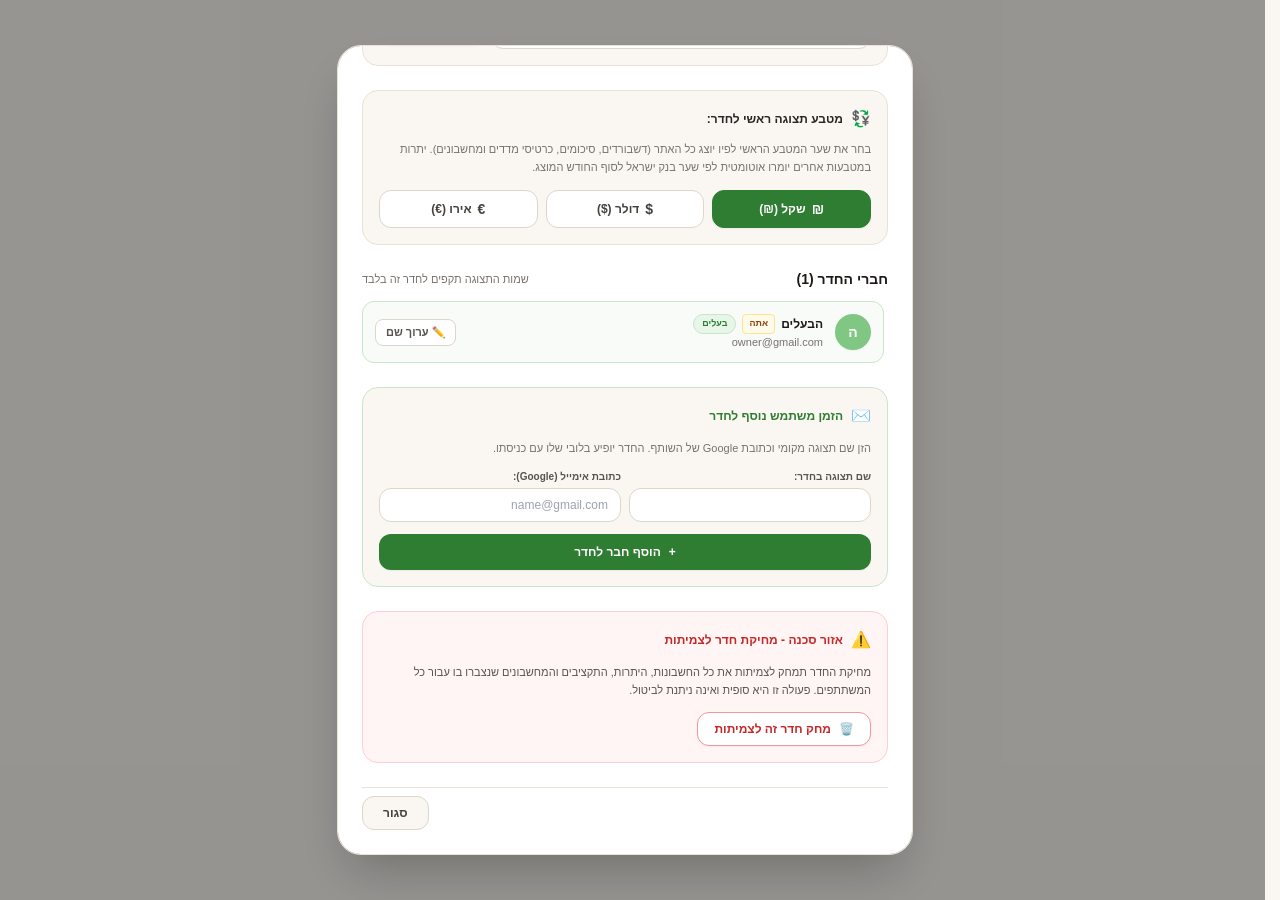
Scenario: Interactive Form Stress Testing & Edge Cases › RoomSettingsModal Form Validations › validates email format and blocks invalid emails when inviting
(page scrolled)
Test 1: Empty inputs
Click the button "+ הוסף חבר לחדר" at coordinates (625, 552), box x1=379 y1=534 x2=871 y2=570
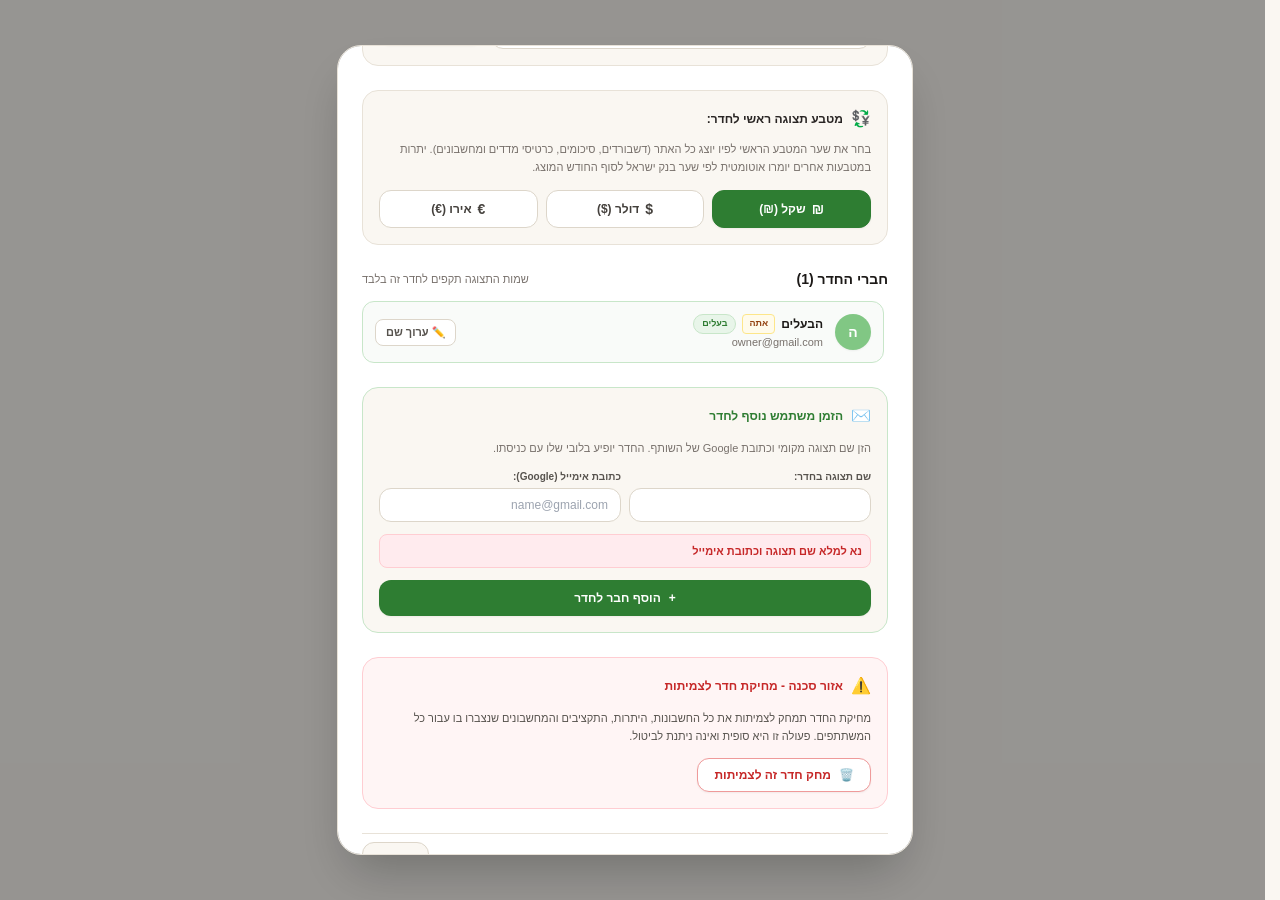
Expected: the text "נא למלא שם תצוגה וכתובת אימייל" is shown, x1=379 y1=534 x2=871 y2=568
Test 2: Invalid email without dot
Type "שותף חדש" into the field named "שם תצוגה בחדר" at coordinates (750, 505), box x1=629 y1=488 x2=871 y2=522
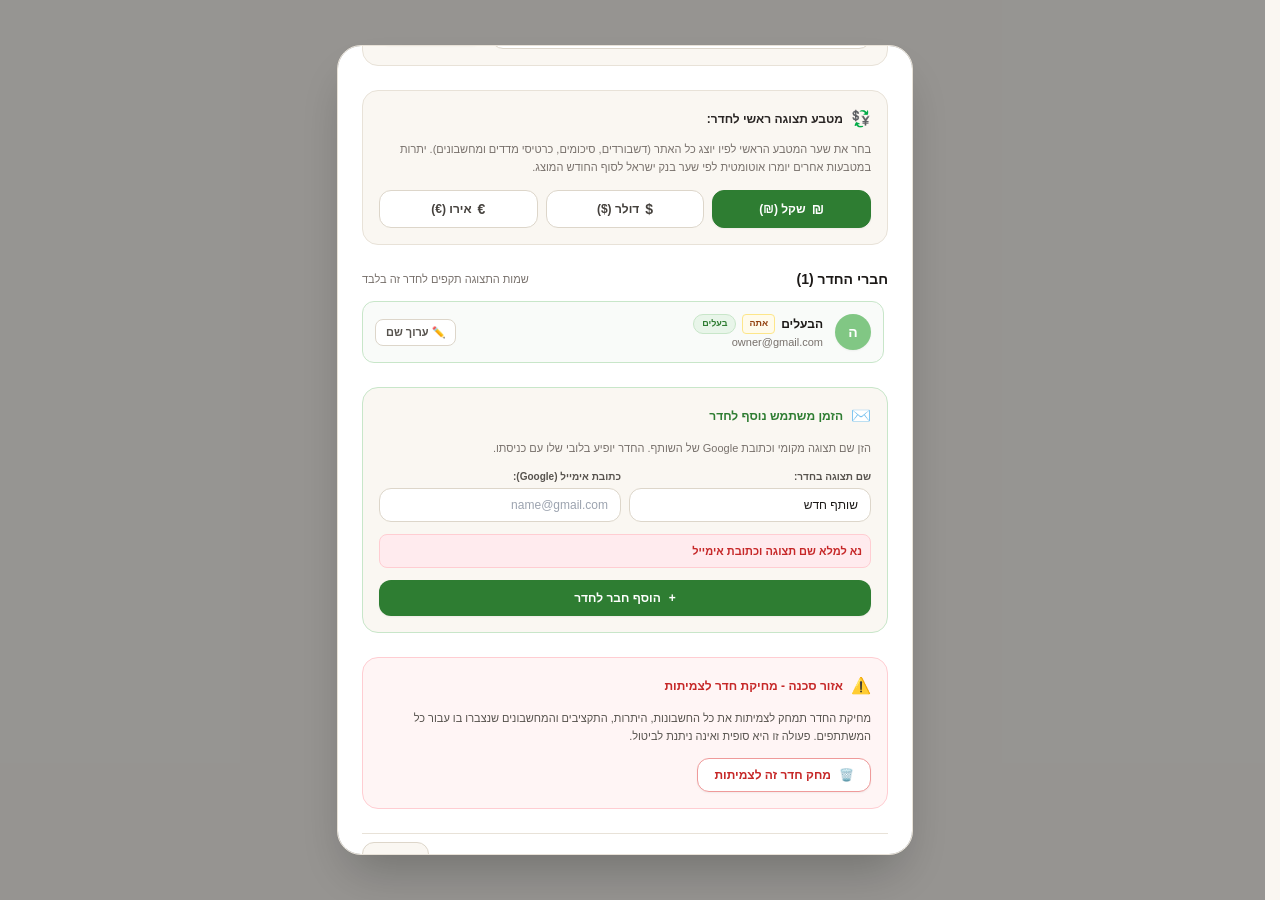
Type "bademail@domain" into the field with placeholder "name@gmail.com" at coordinates (500, 505), box x1=379 y1=488 x2=621 y2=522
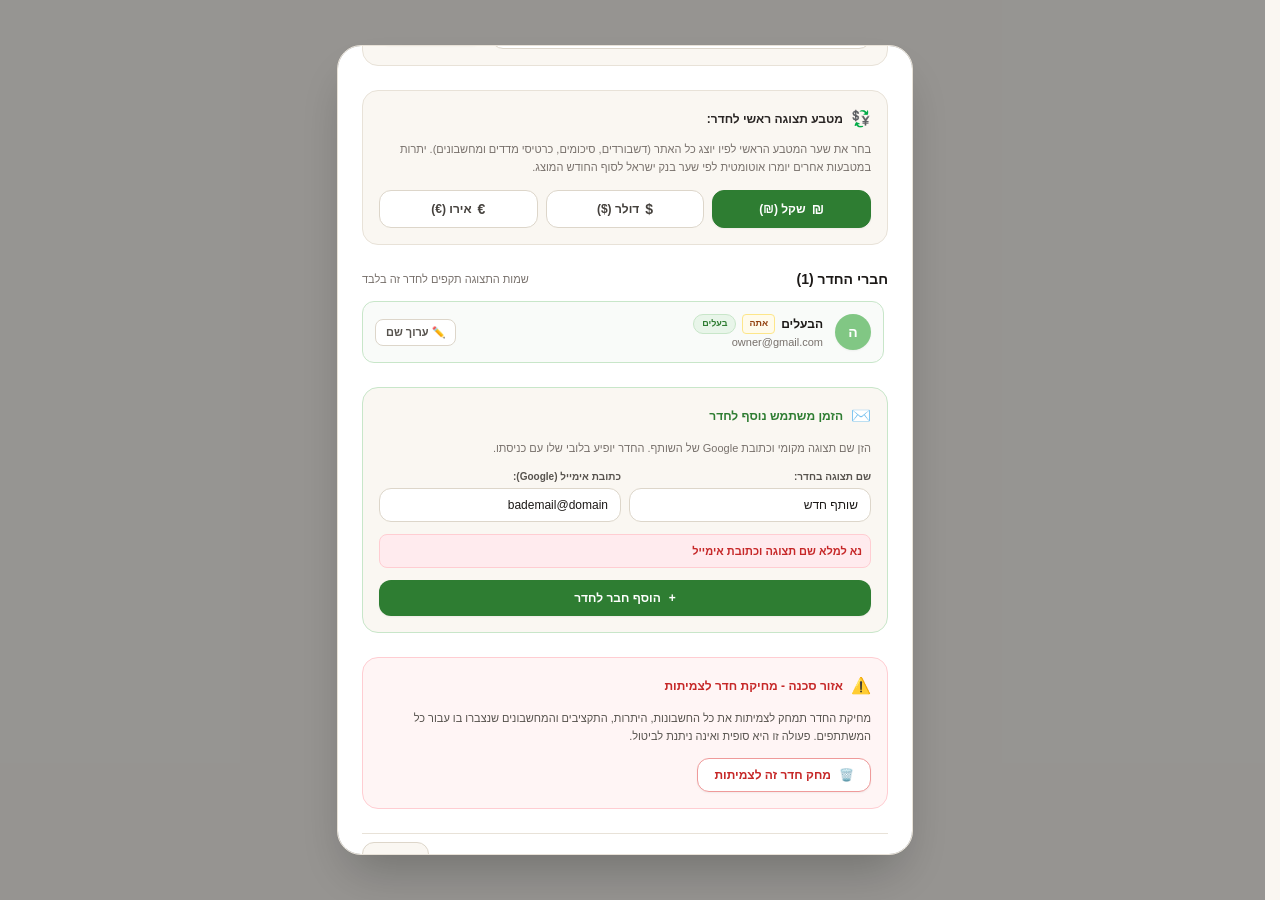
Click the button "+ הוסף חבר לחדר" at coordinates (625, 598), box x1=379 y1=580 x2=871 y2=616
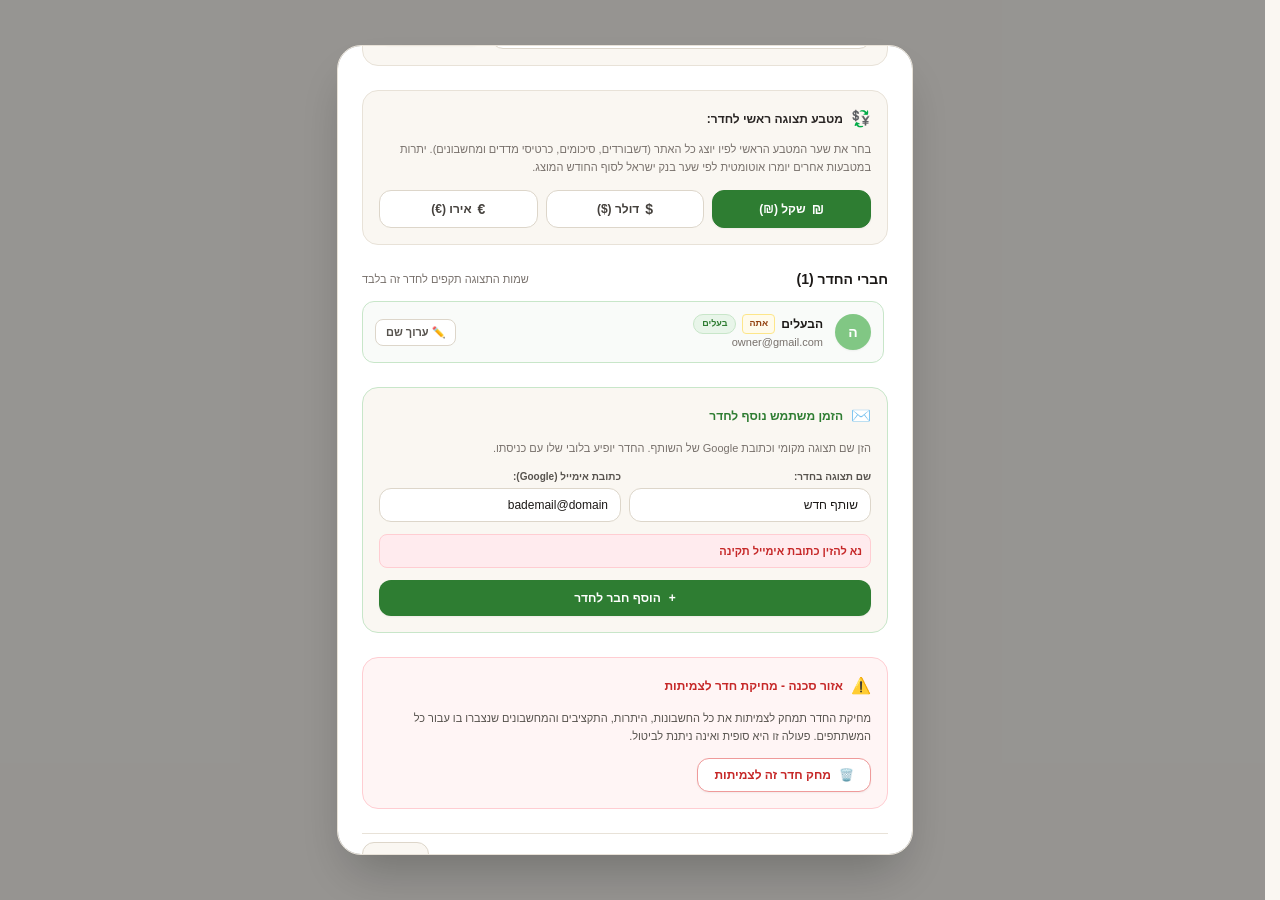
Expected: the text "נא להזין כתובת אימייל תקינה" is shown, x1=379 y1=534 x2=871 y2=568
Test 3: Existing owner email duplicate
Replace the text in the field with placeholder "name@gmail.com" below "כתובת אימייל (Google):" with "owner@gmail.com" at coordinates (500, 505), box x1=379 y1=488 x2=621 y2=522
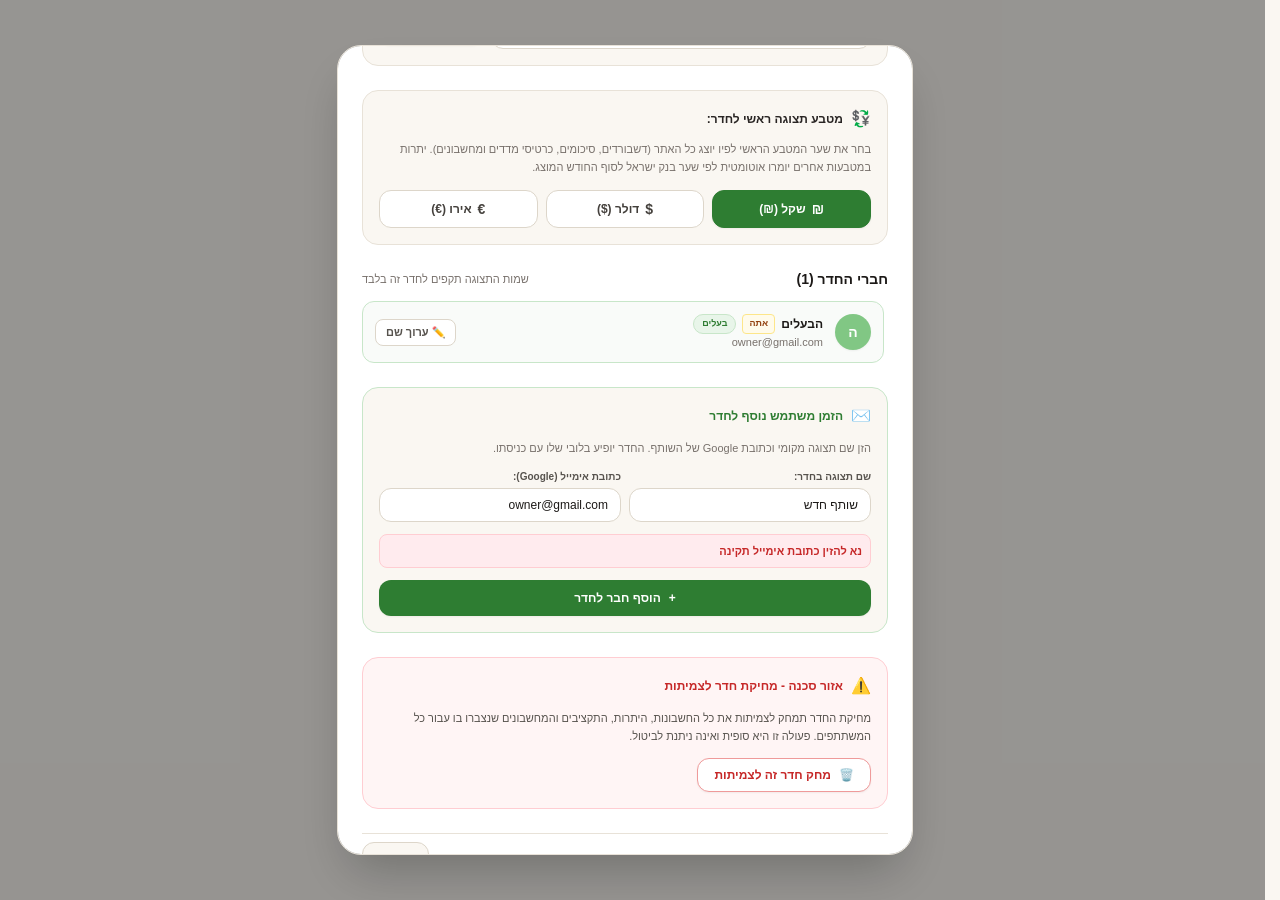
Click the button "+ הוסף חבר לחדר" at coordinates (625, 598), box x1=379 y1=580 x2=871 y2=616
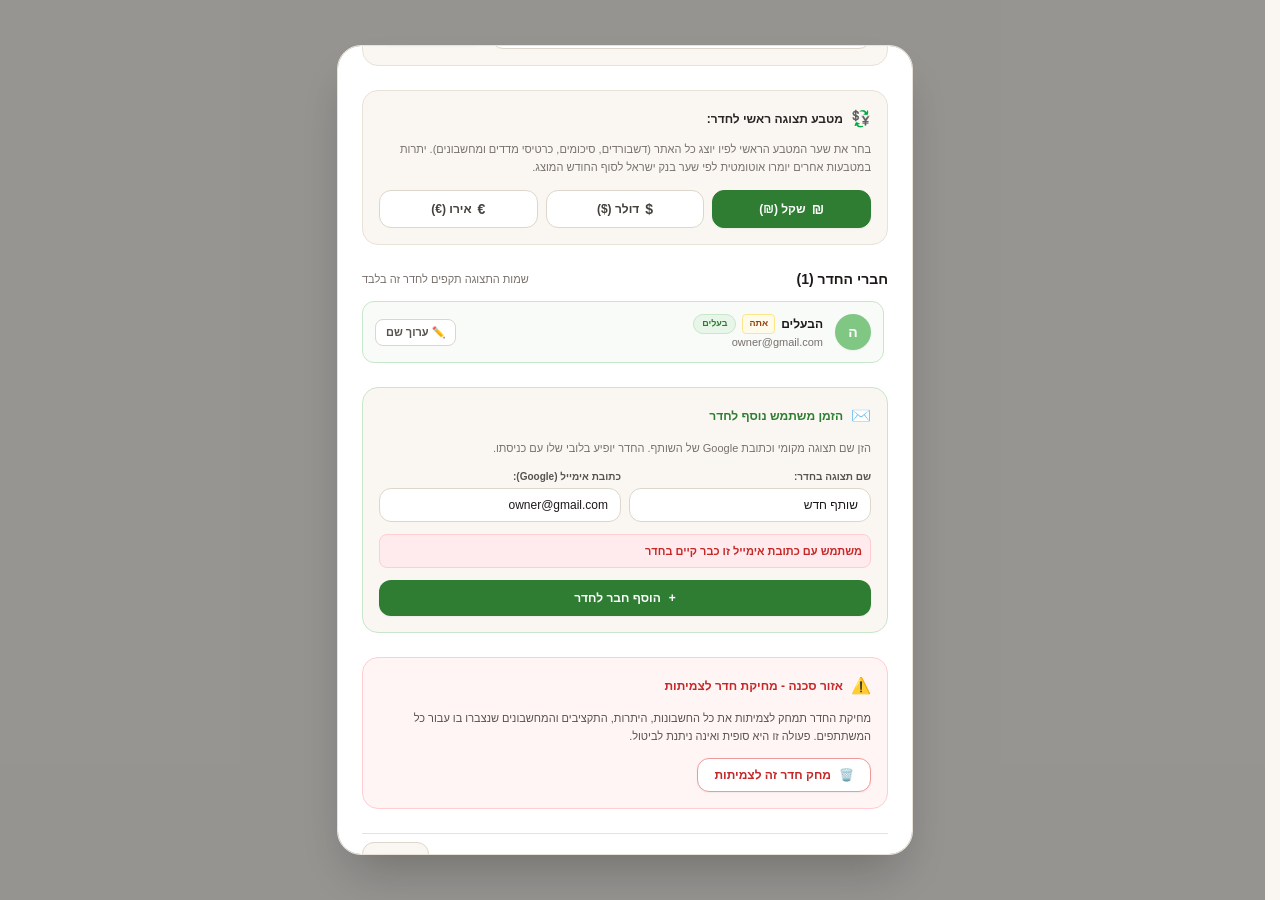
Expected: the text "משתמש עם כתובת אימייל זו כבר קיים בחדר" is shown, x1=379 y1=534 x2=871 y2=568
